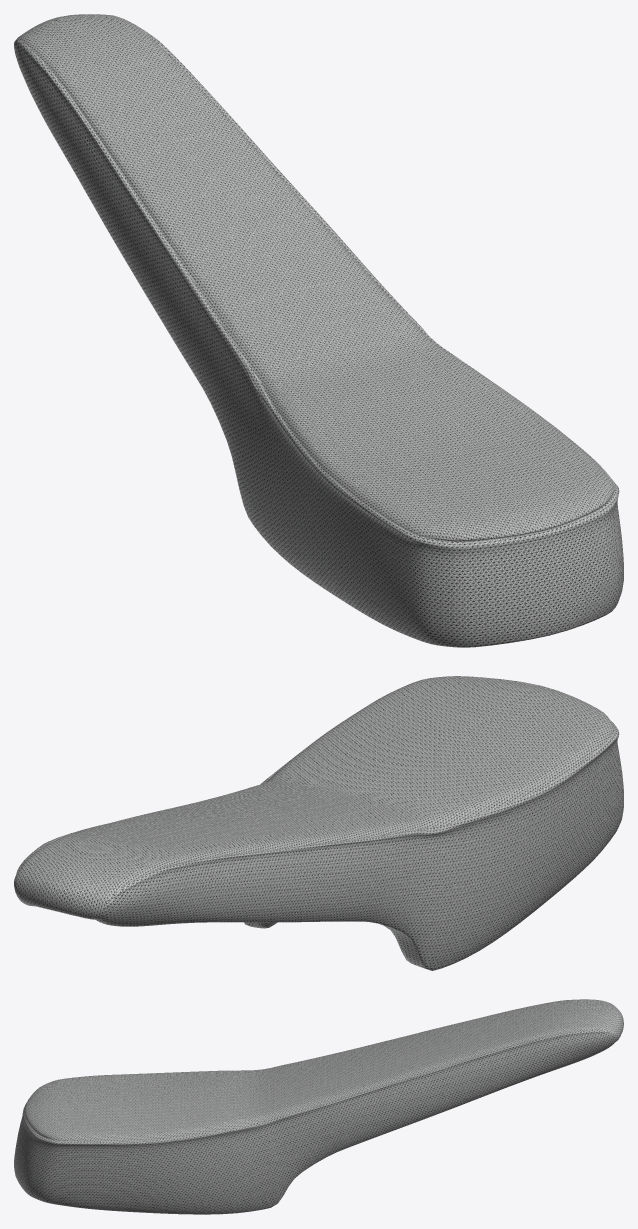
The model's file is 378_MainSeat-f960c229.glb.
3 renders of one model, top to bottom at view 1: azimuth 30°, elevation 25°; view 2: azimuth 150°, elevation 25°; view 3: azimuth 270°, elevation 25°, orthographic. The views are drawn at different scales.
Parts seen in each view (by area): view 1: Seat; view 2: Seat; view 3: Seat.
Boxes of the visible parts, x1,y1,x2,y2 form: Seat: (14, 14, 623, 647); Seat: (14, 676, 623, 970); Seat: (14, 999, 623, 1214).
Size of the model in its own units: 0.2315 by 0.2755 by 0.8748.
3 materials, 3 textured.
